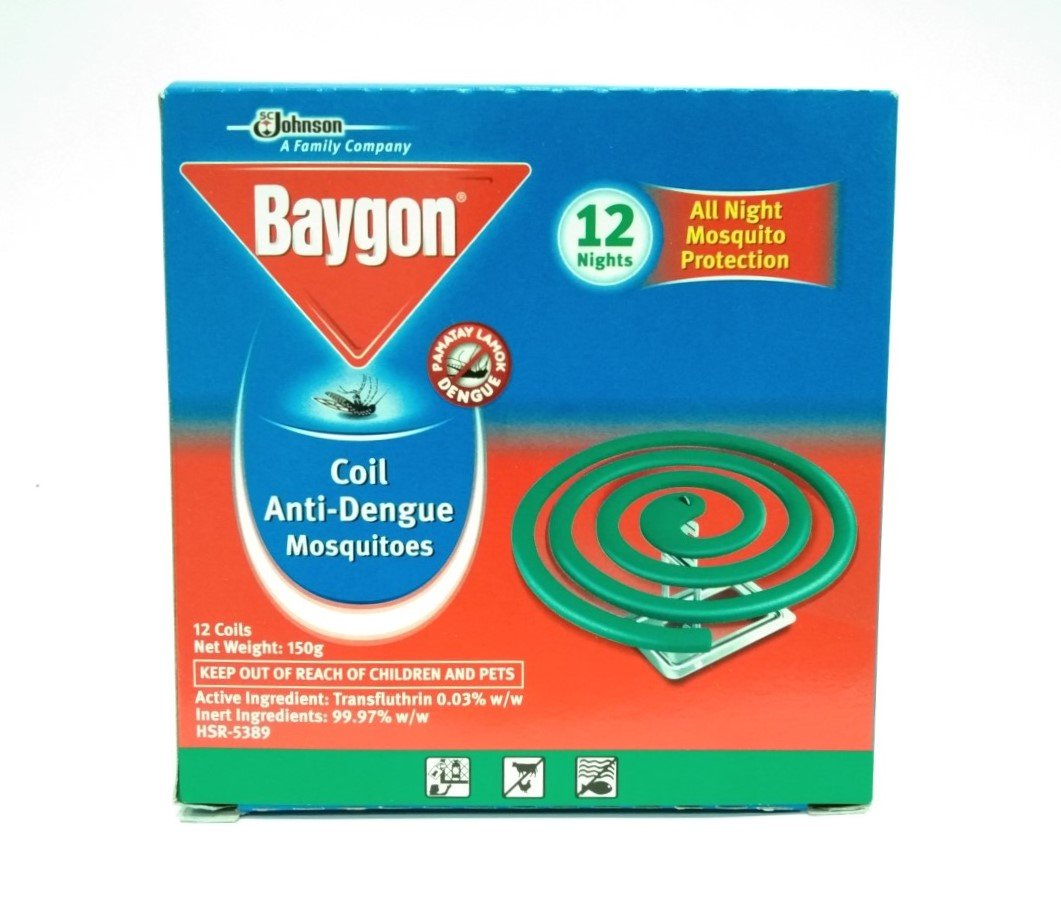Open-Flame-Hazard: (495, 407, 871, 692)
